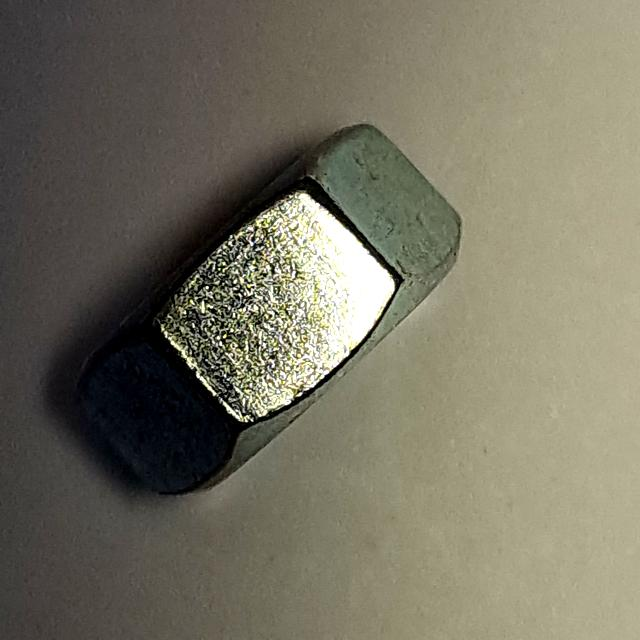Side_Excellent: (62, 107, 469, 510)
